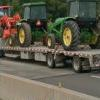Tractor: (17, 1, 100, 68)
